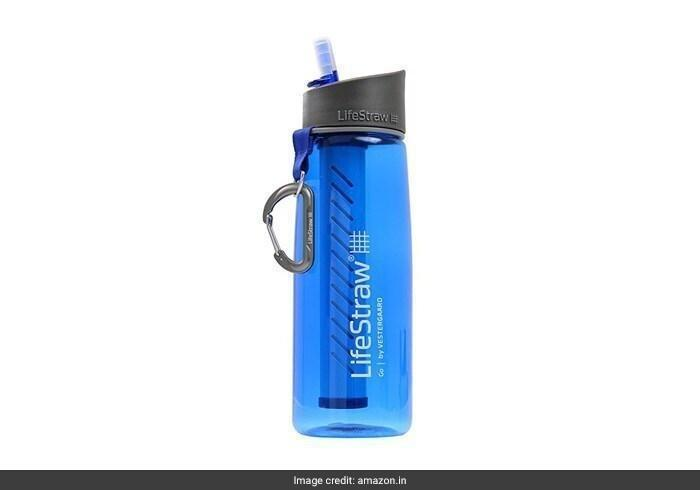gym bottle: (288, 38, 418, 443)
